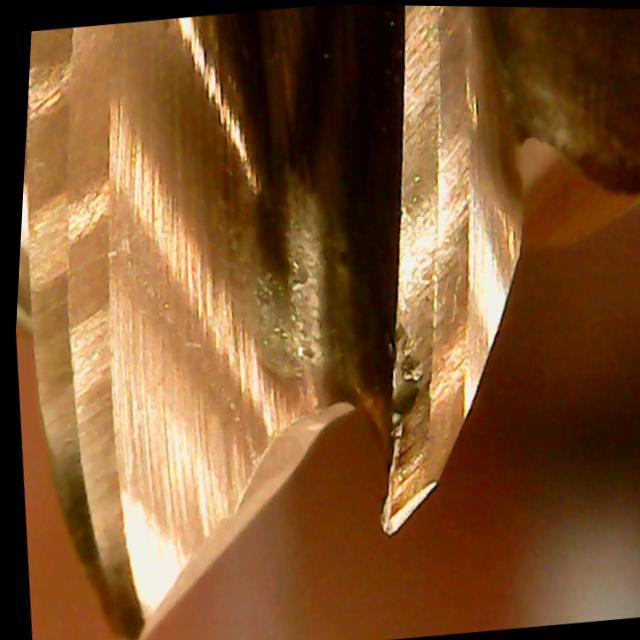Tool-wear-class-1: (319, 210, 534, 548)
